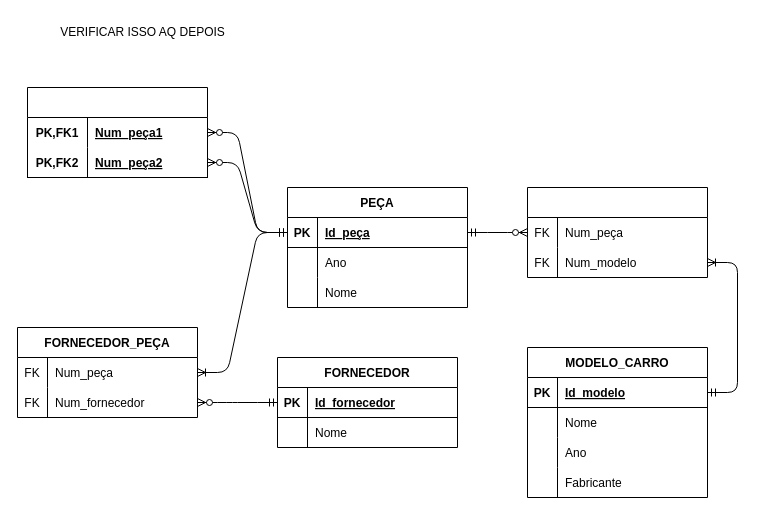
Image size: 764x515. Some labels were removed from this diagram. Each missing label, with the box of its shape:
PEÇA_MODELO: (526, 186, 708, 278)
PEÇA_SUPORTA_PEÇA: (26, 86, 208, 178)
